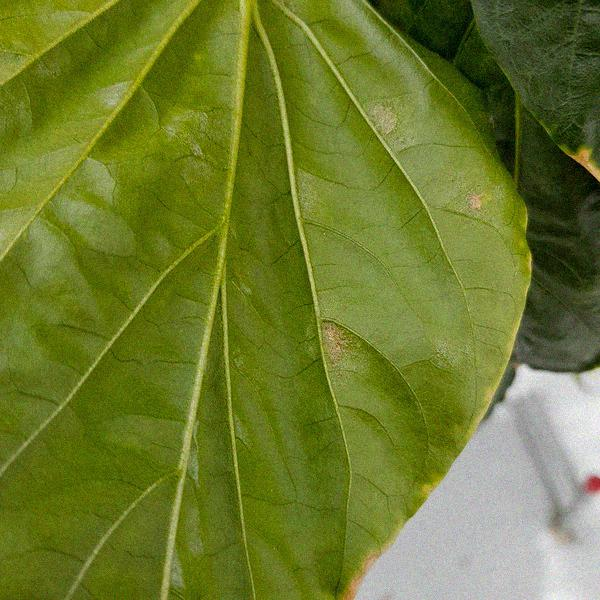powdery_mildew: (321, 321, 351, 369), (370, 103, 399, 137), (465, 191, 487, 214)
